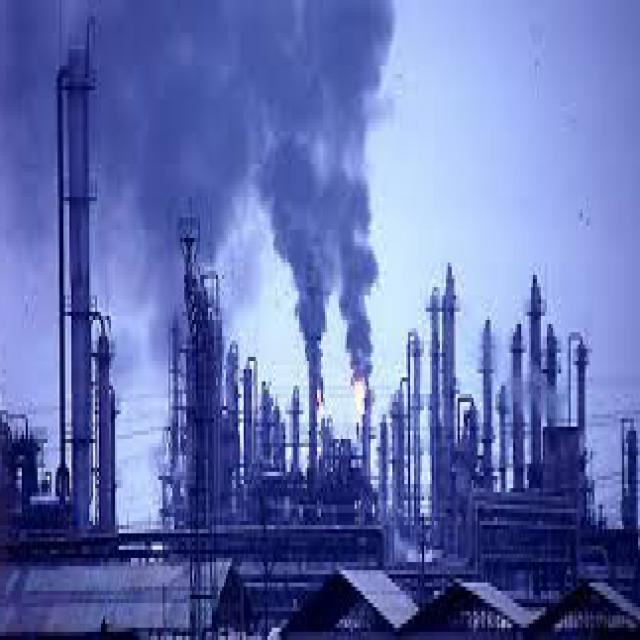Smoke: (0, 0, 422, 440)
